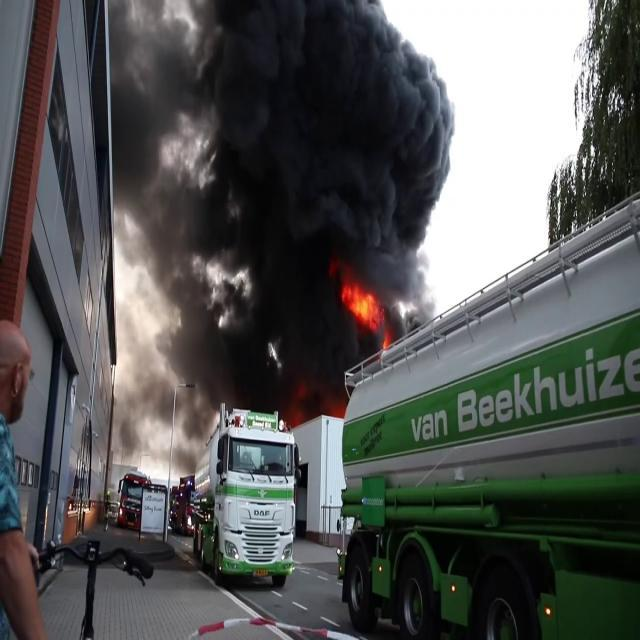Fire: (342, 276, 384, 336)
Smoke: (94, 0, 458, 426)
